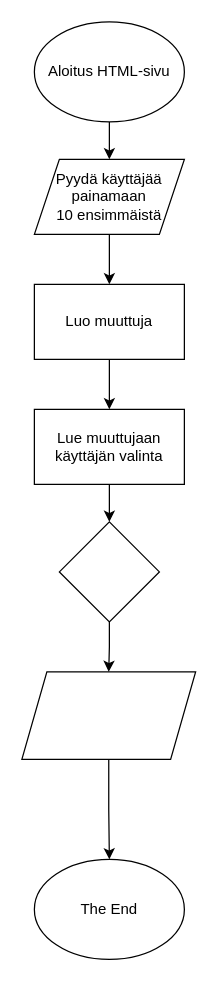
The diagram is 218 pixels wide and 981 high, and some of its shapes have lost their labels. The shapes that lost their labels are listed below. From the top down, each one's centre as x and y in pixels, then its label:
At (x=108, y=571): "Paina 10 ensimmäistä".
At (x=108, y=715): "Tulostuu numerot 1-10 näytölle".
